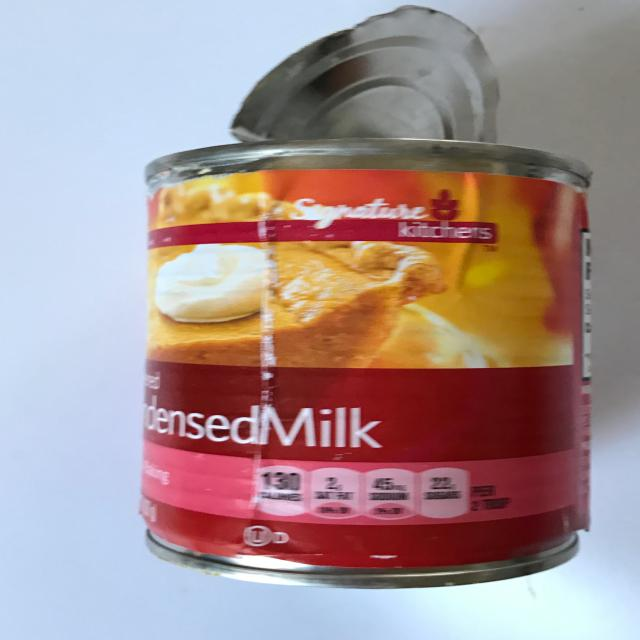metal: (117, 0, 618, 607)
